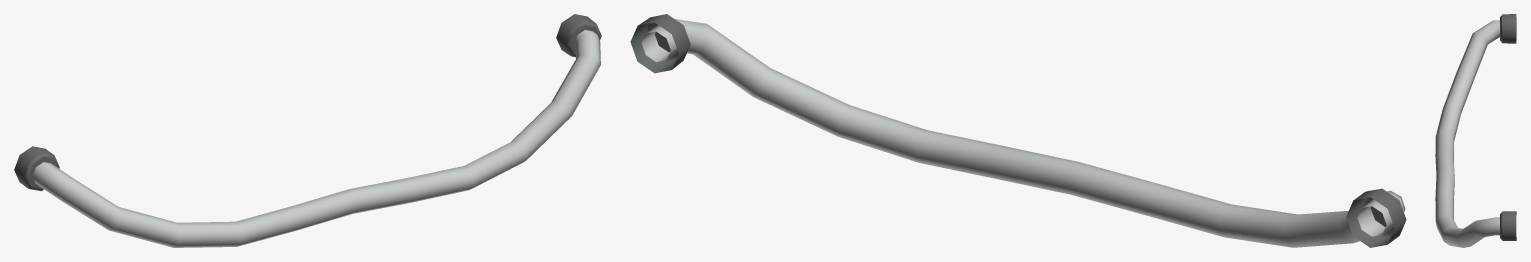
The model's file is Car_15_FrontBumper_Simple.fbx.
3 views of the same model, side by side, from view 1: azimuth 30°, elevation 25°; view 2: azimuth 150°, elevation 25°; view 3: azimuth 270°, elevation 25° (orthographic). The views are drawn at different scales.
Parts seen in each view (by area): view 1: Car_15_FrontBumper_Simple; view 2: Car_15_FrontBumper_Simple; view 3: Car_15_FrontBumper_Simple.
Part boxes in pixels (left/top/right/bottom): Car_15_FrontBumper_Simple: left=14, top=14, right=601, bottom=247; Car_15_FrontBumper_Simple: left=630, top=14, right=1406, bottom=247; Car_15_FrontBumper_Simple: left=1435, top=14, right=1516, bottom=247.
Bounding box in the file's own units: 183 × 29.72 × 30.81.
